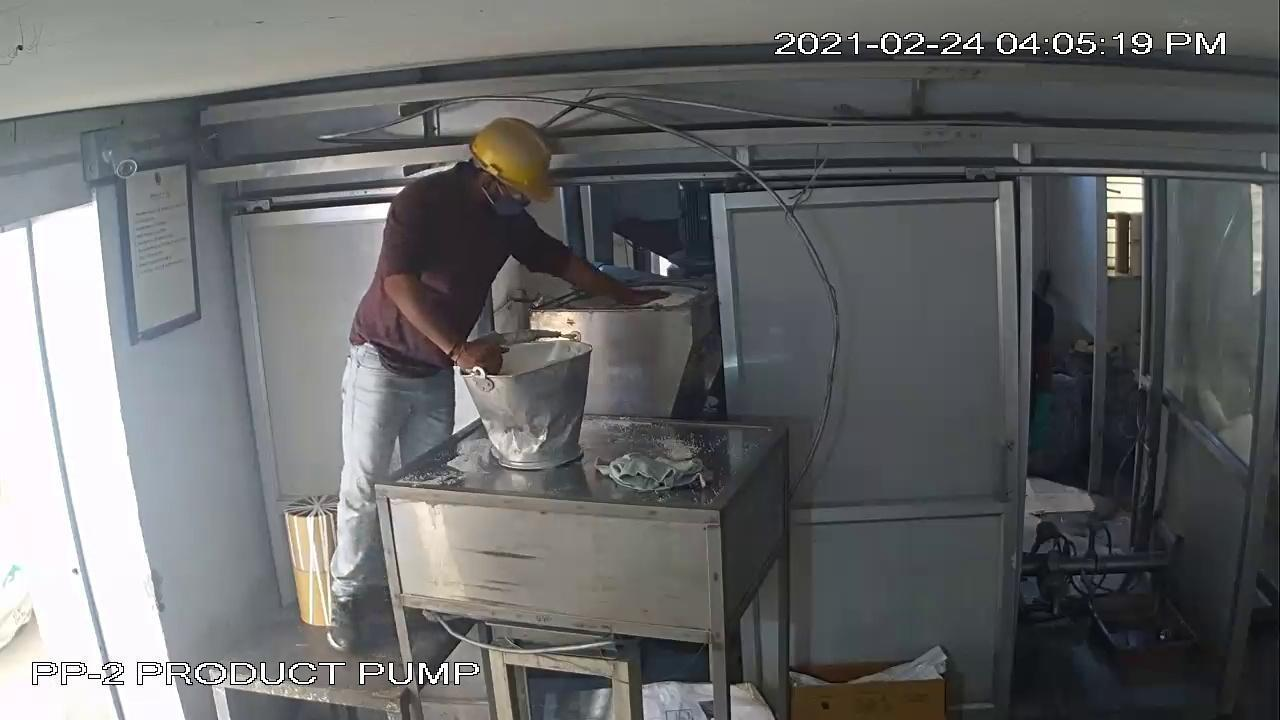helmet: (462, 112, 565, 213)
